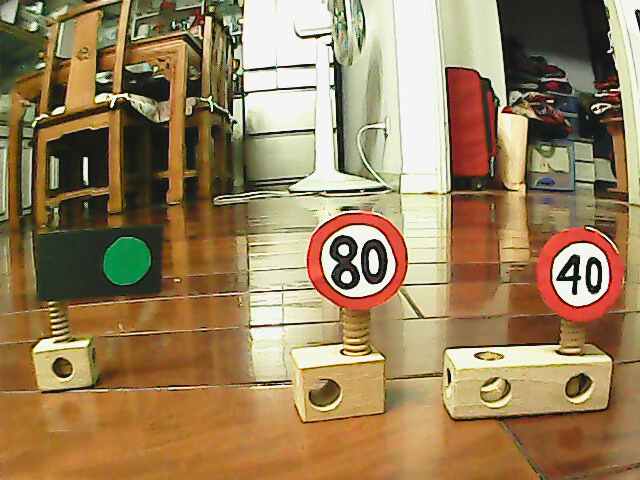Green Traffic Light: (97, 231, 158, 293)
Speed Limit 40: (533, 224, 629, 324)
Speed Limit 80: (303, 208, 412, 313)
